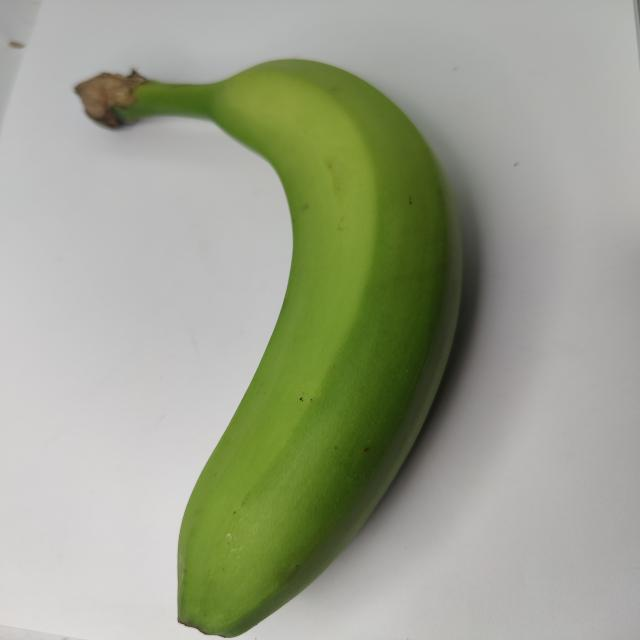raw: (30, 50, 516, 640)
